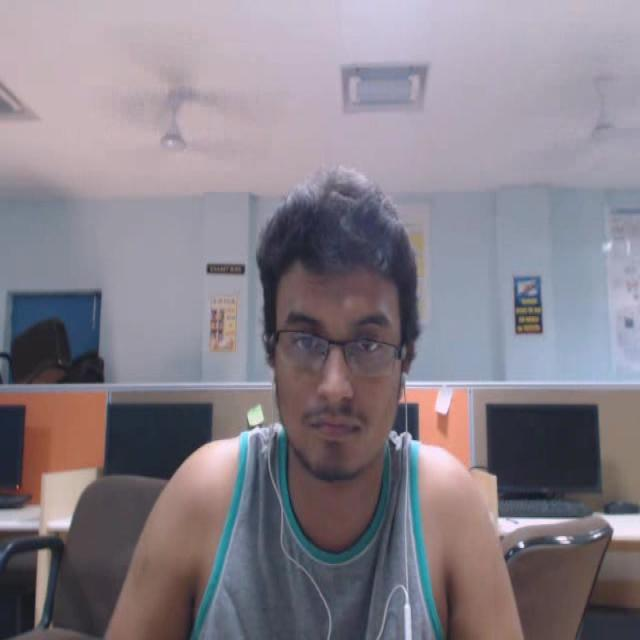Bored: (233, 159, 480, 528)
